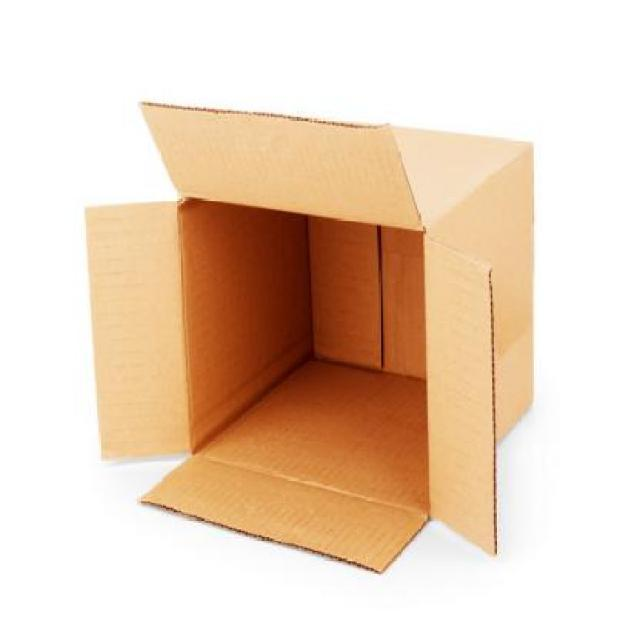box: (84, 100, 542, 560)
